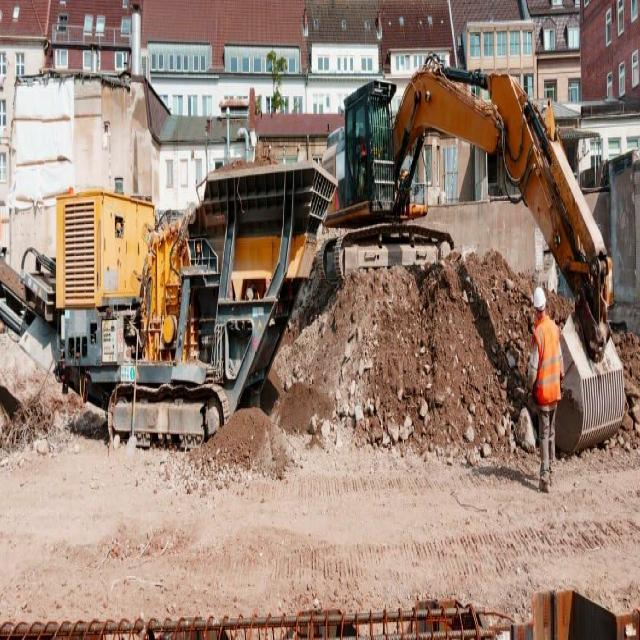head_helmet: (534, 287, 548, 311)
person: (526, 289, 563, 497)
vest: (534, 312, 562, 404)
